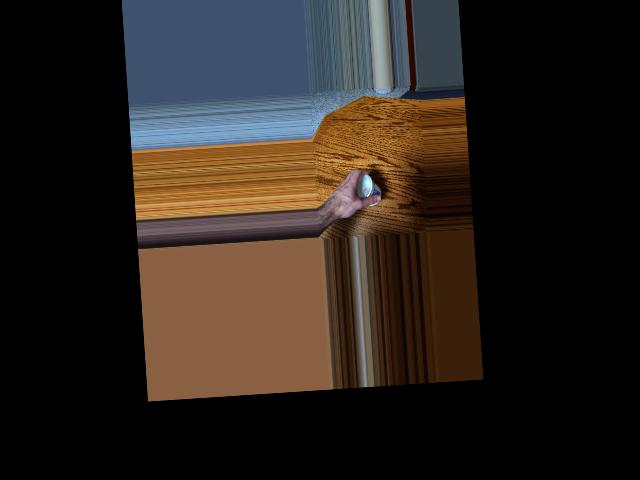cotage: (351, 176, 381, 210)
